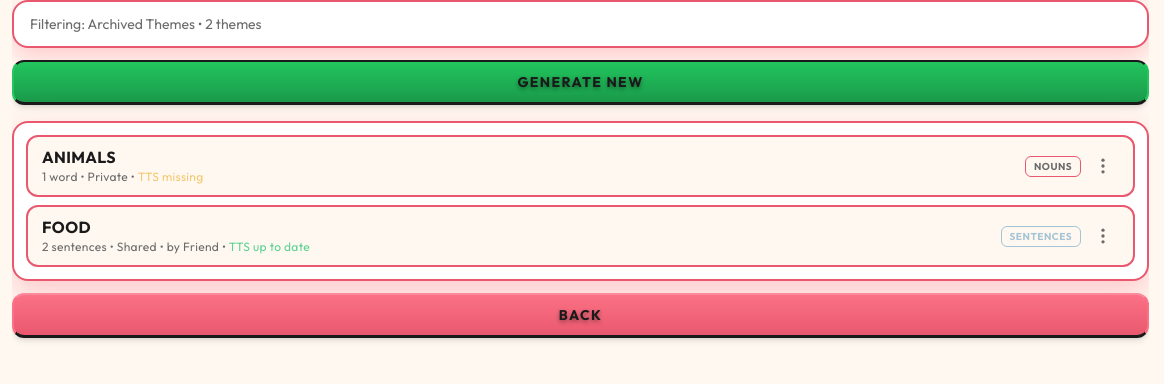
Scenario: theme lists and card menus › toggles the card archive action (archived=true)
Click the button with test id "theme-menu-button-word": (1103, 166) [1087, 150, 1119, 182]
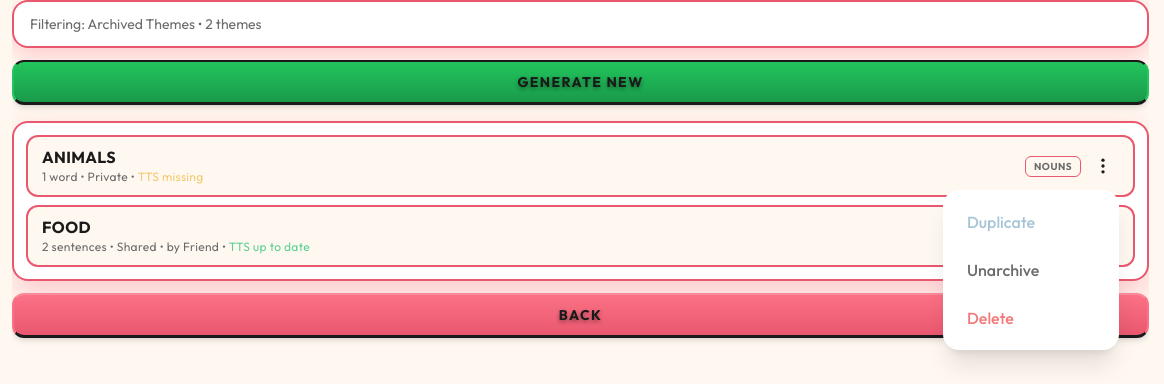
Now the menu item with test id "theme-archive-toggle-word" reads "Unarchive"
Click the menu item with test id "theme-archive-toggle-word": (1031, 270) [951, 246, 1111, 294]
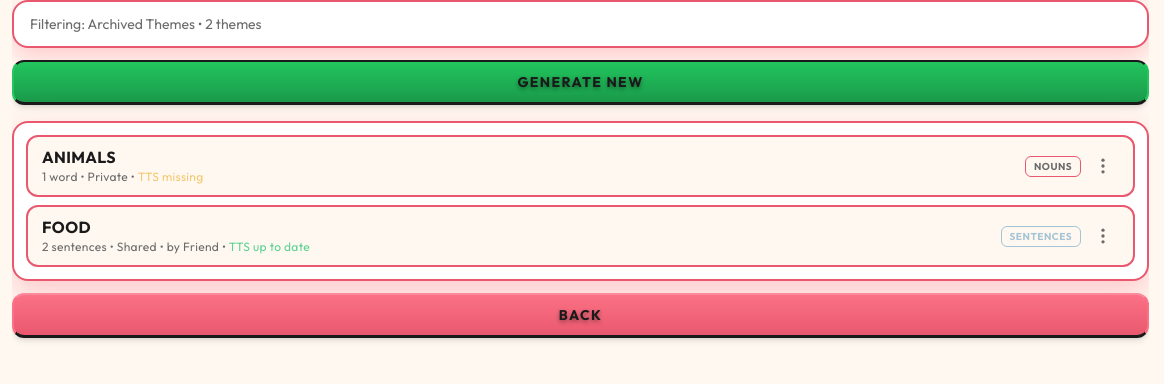
Now the menu with test id "theme-menu-word" is gone
